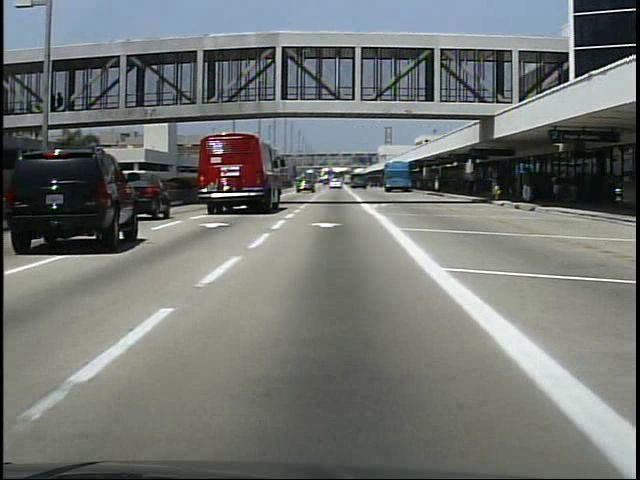person: (546, 167, 564, 202)
